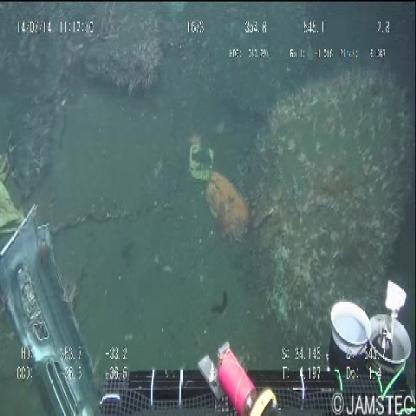Rov: (86, 274, 416, 411)
Rác: (4, 193, 109, 413)
